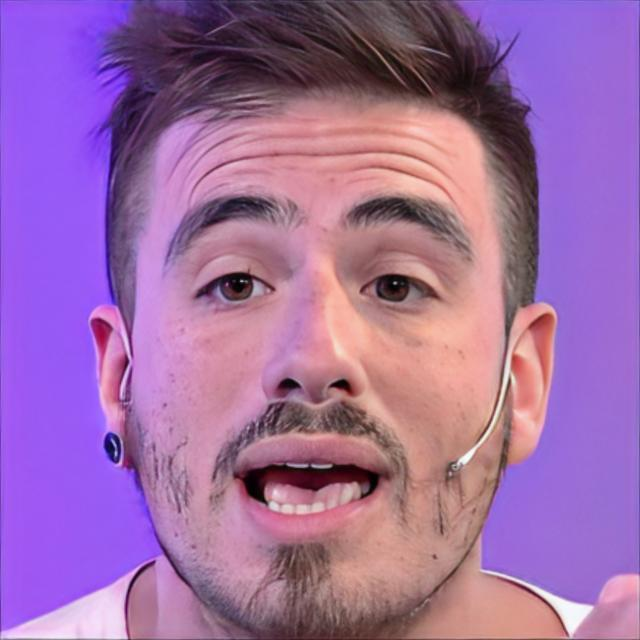surprise: (125, 88, 509, 640)
